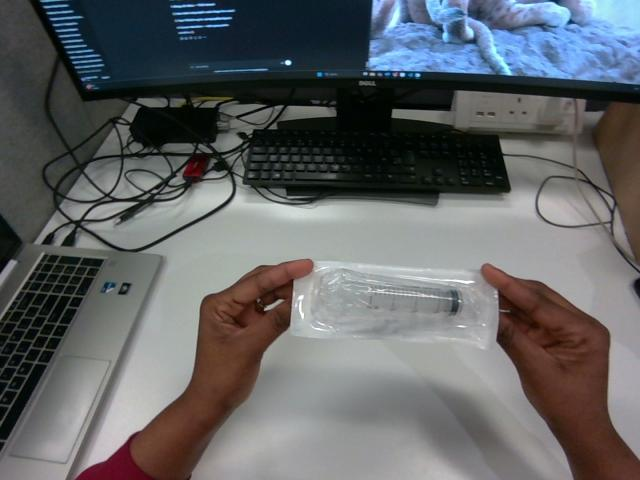syringe: (290, 262, 498, 348)
